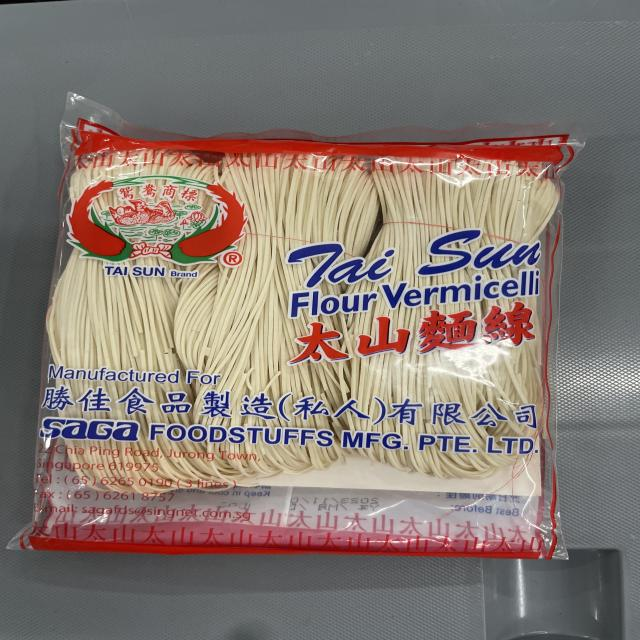object_name: (58, 121, 550, 551)
